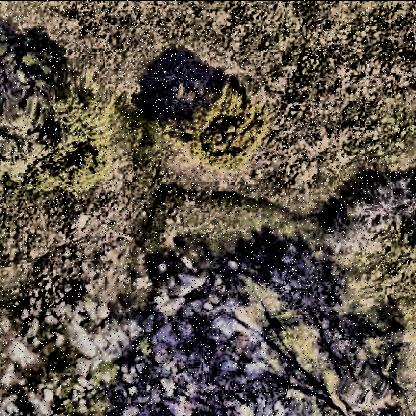tree-top: (1, 45, 121, 210), (171, 69, 277, 176), (324, 163, 416, 272)
